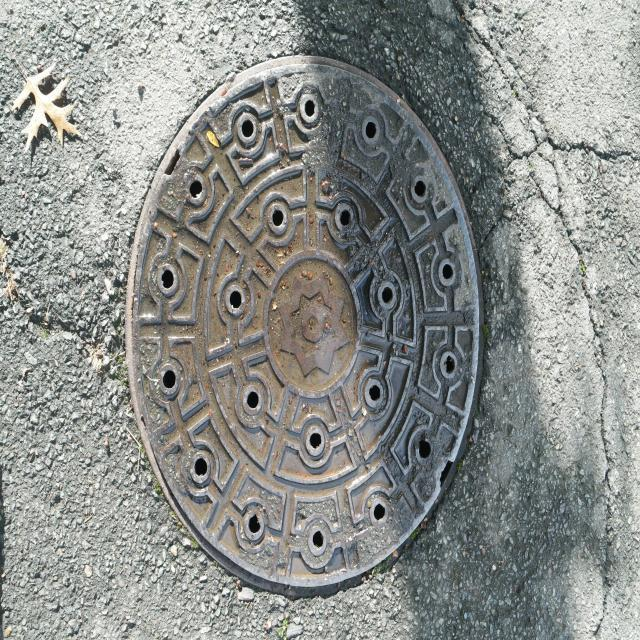manhole: (122, 56, 489, 603)
